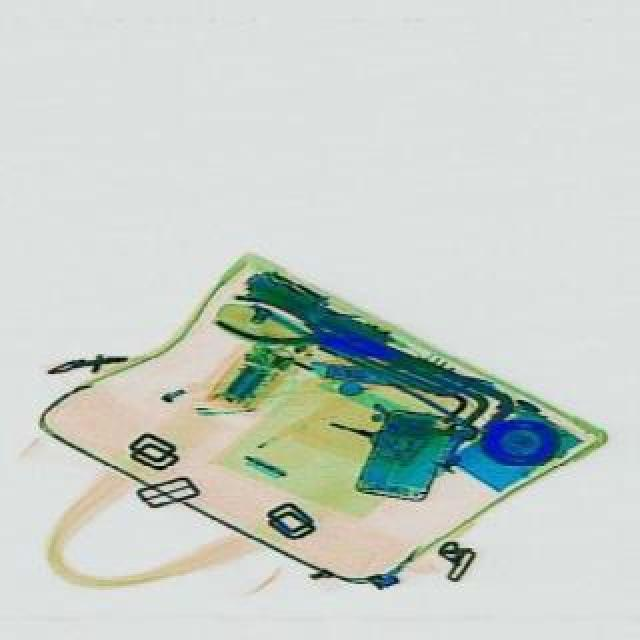wrench: (210, 284, 370, 372)
